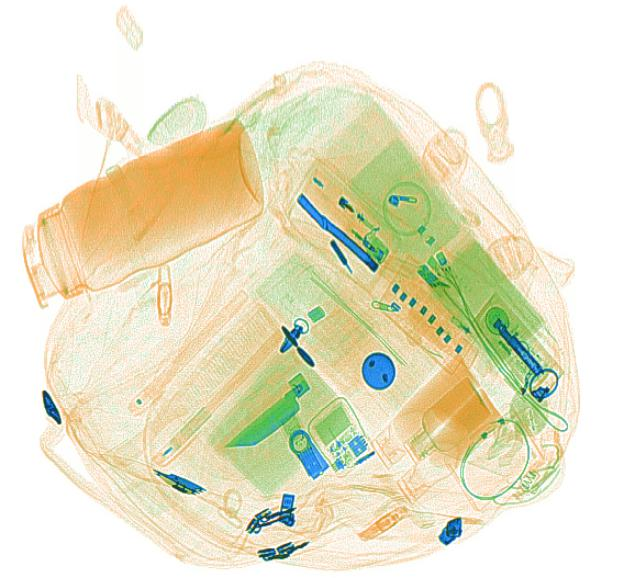USBFlashDisk: (278, 412, 330, 480)
knife: (213, 370, 315, 457)
lighter: (296, 161, 399, 268)
